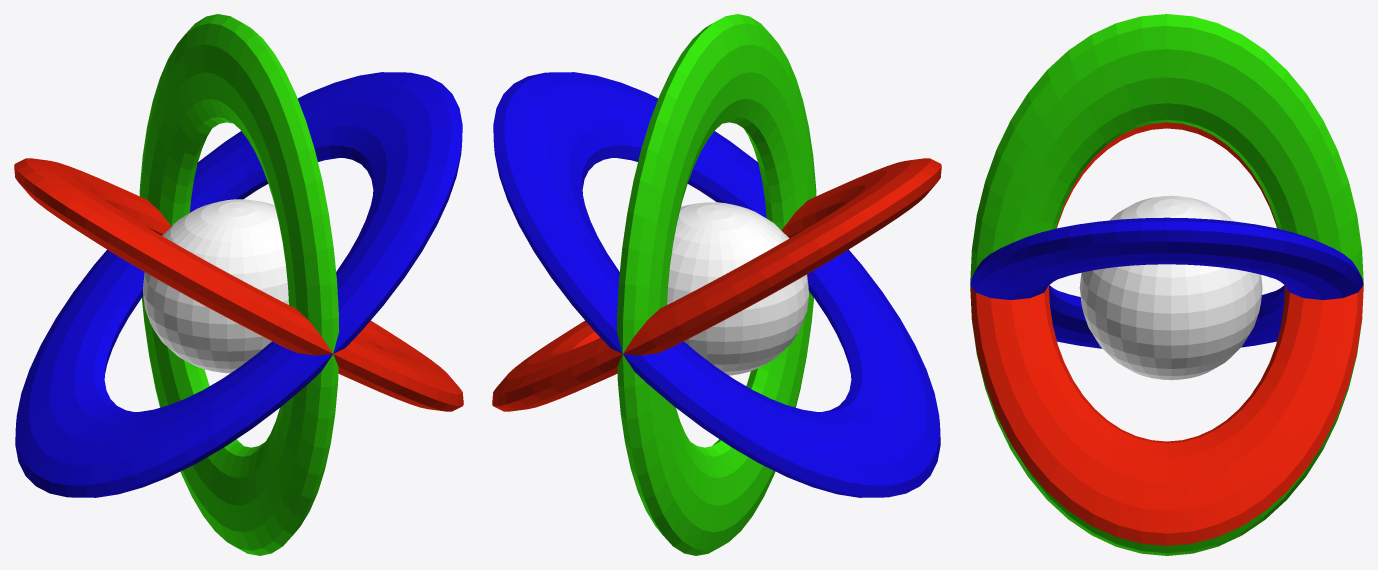
Rendered from ATOM.glb.
3 views of the same model, side by side, from view 1: azimuth 30°, elevation 25°; view 2: azimuth 150°, elevation 25°; view 3: azimuth 270°, elevation 25° (orthographic). The views are drawn at different scales.
Parts seen in each view (by area): view 1: Torus.002, Torus.003, Torus.001, Sphere; view 2: Torus.002, Torus.003, Torus.001, Sphere; view 3: Torus.001, Torus.003, Torus.002, Sphere.
Part boxes in pixels (left/top/right/bottom): Torus.002: left=15, top=72, right=462, bottom=497; Torus.003: left=139, top=14, right=339, bottom=555; Torus.001: left=14, top=158, right=463, bottom=411; Sphere: left=143, top=199, right=288, bottom=373; Torus.002: left=493, top=72, right=940, bottom=497; Torus.003: left=616, top=14, right=816, bottom=555; Torus.001: left=492, top=158, right=941, bottom=411; Sphere: left=667, top=202, right=808, bottom=375; Torus.001: left=970, top=122, right=1363, bottom=545; Torus.003: left=970, top=14, right=1363, bottom=555; Torus.002: left=970, top=217, right=1363, bottom=348; Sphere: left=1079, top=195, right=1262, bottom=380.
Bounding box in the file's own units: 5.76 × 7.04 × 4.6.
